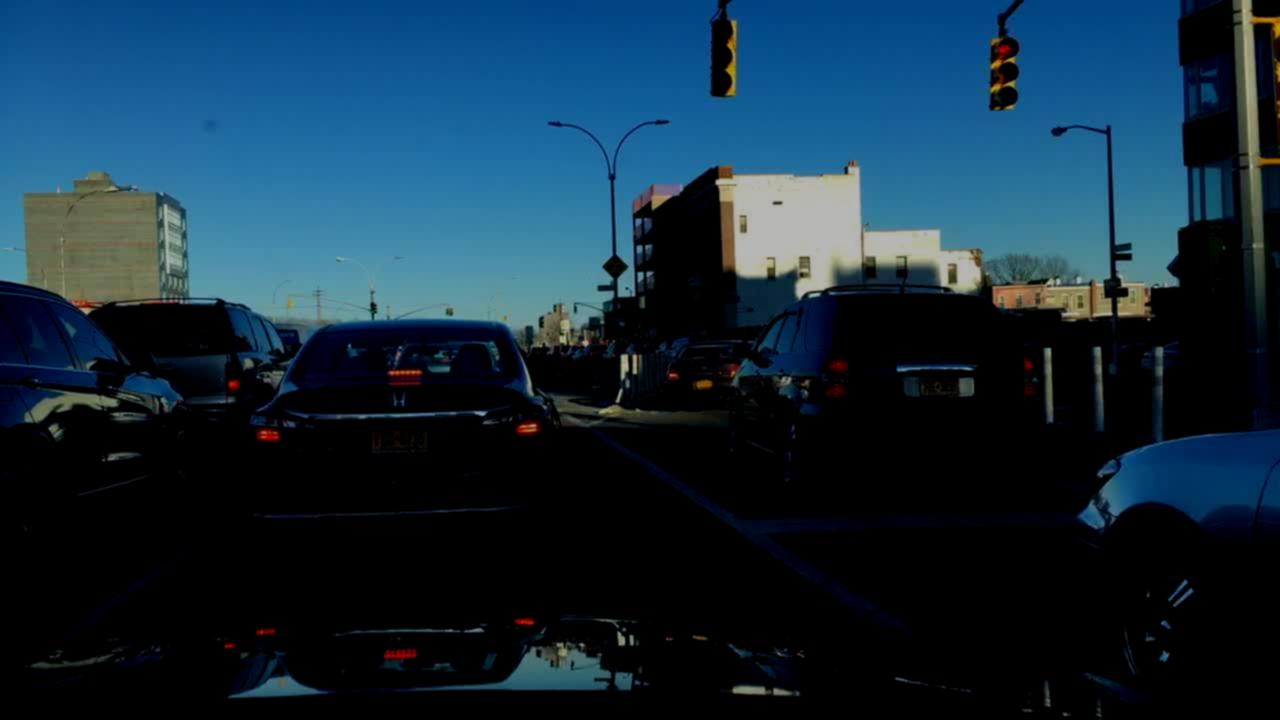Honda: (382, 389, 416, 415)
